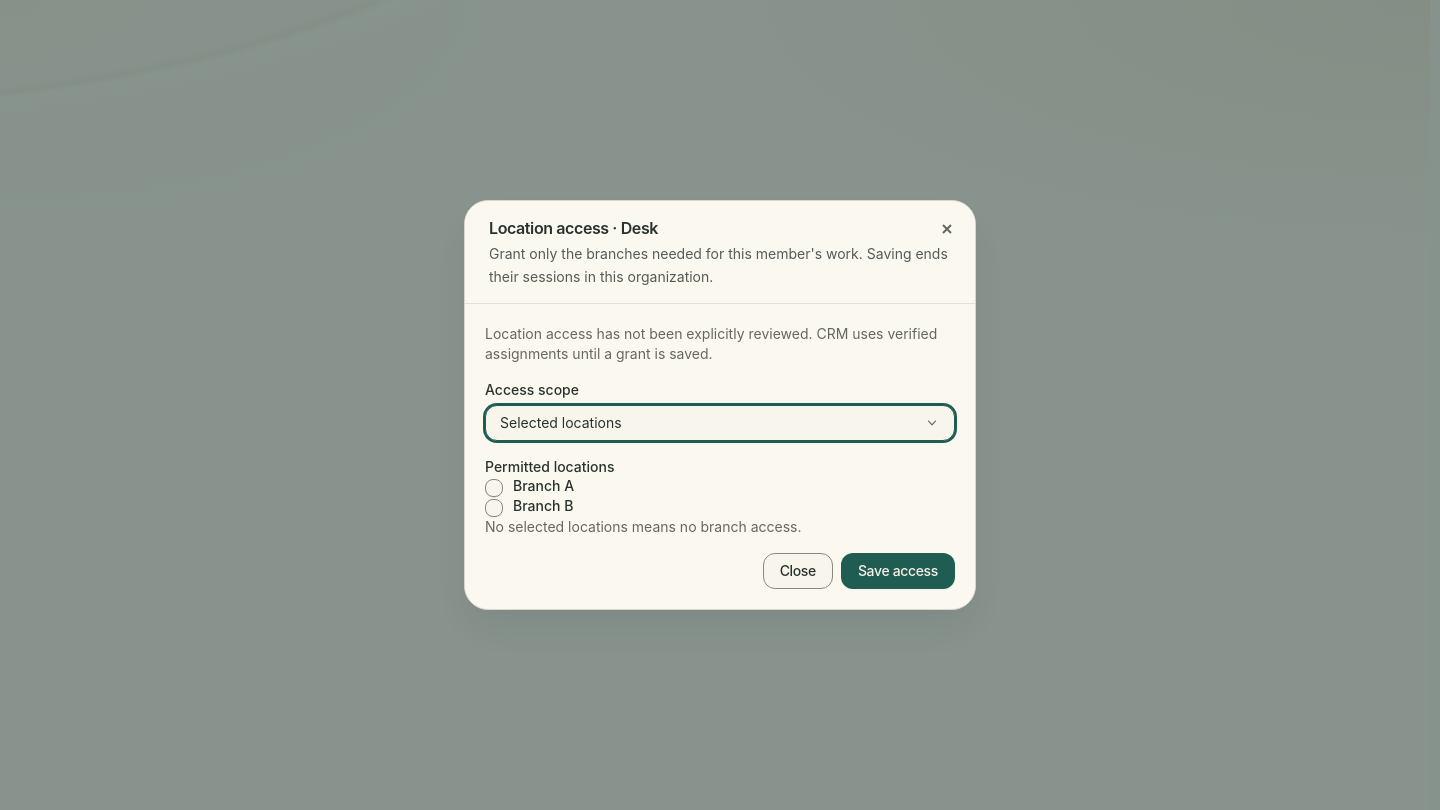
Test: Reviewed branch grants › requires reload on a concurrent revision conflict instead of overwriting a newer grant
Expected: the checkbox labelled "Branch A" is shown, [485,477,574,497]
Click the button "Save access" at (898, 571), box [841,553,955,589]
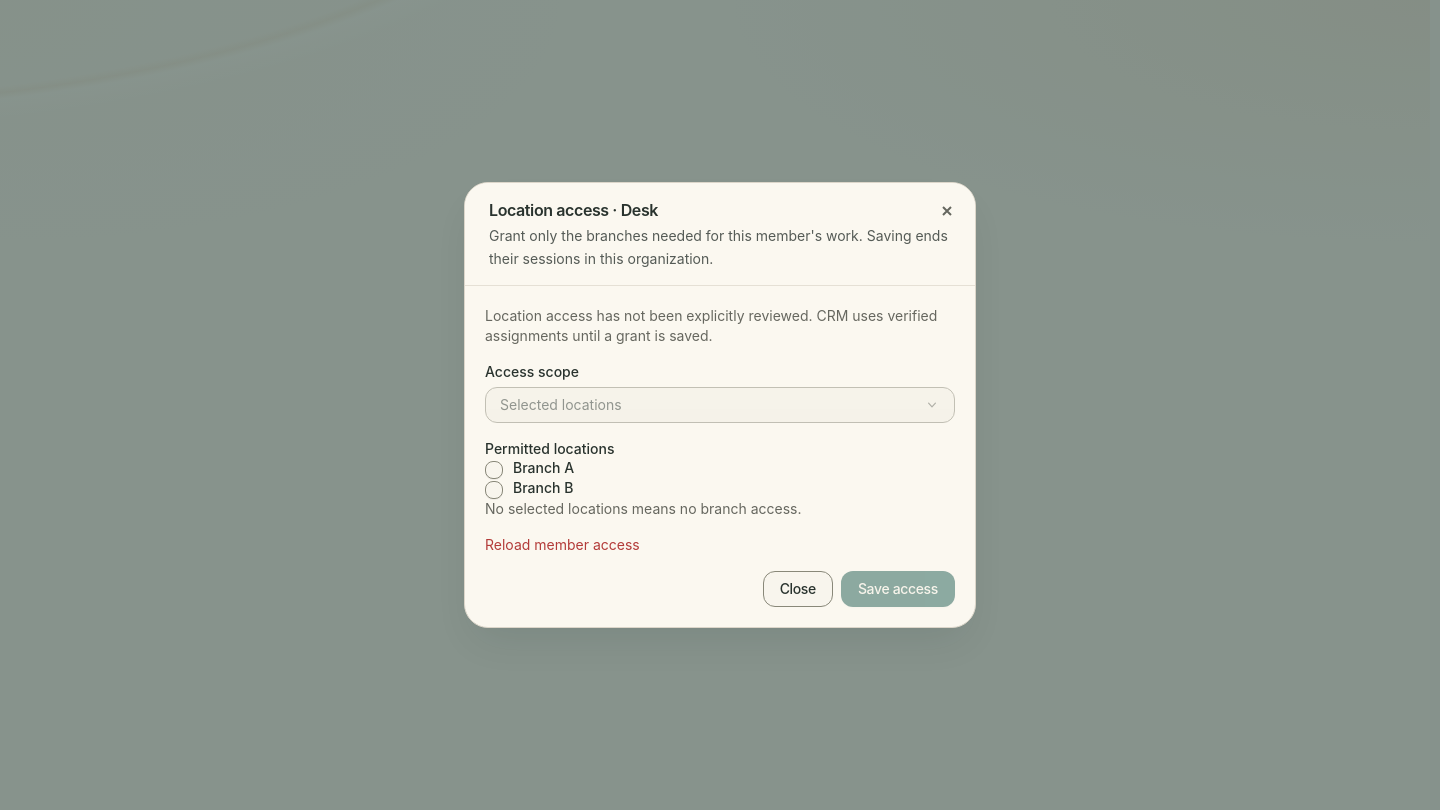
Now the message reads "Reload member access", box [485,536,640,553]
Now the button "Save access" is disabled, box [841,571,955,607]
